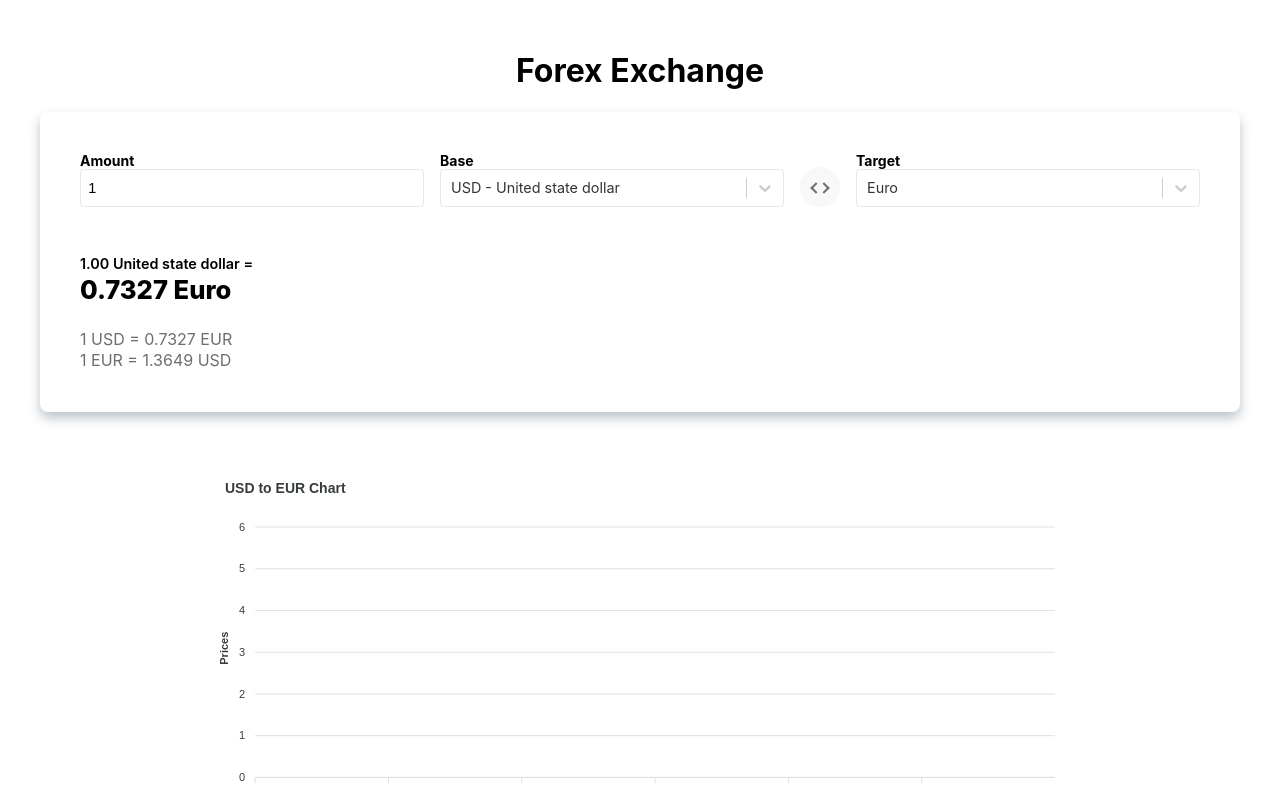
Test case: Calculates the rate when you click the switch button
Expected: the heading "Forex Exchange" is shown, [516, 51, 764, 90]
Expected: the text "1.00 United state dollar =" is shown, [80, 255, 253, 272]
Click the button. click: (820, 187)
box: [800, 167, 840, 207]
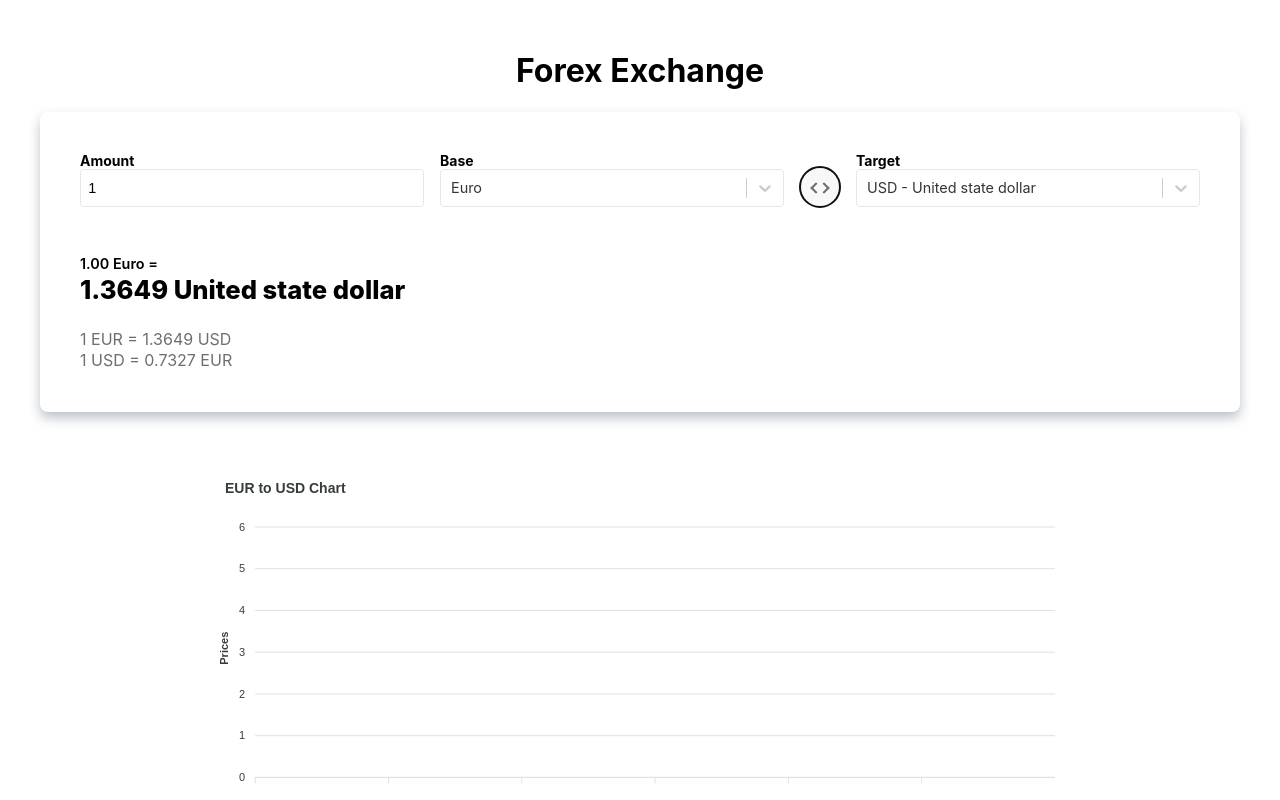
Expected: the text "1.00 Euro =" is shown, [80, 255, 158, 272]
